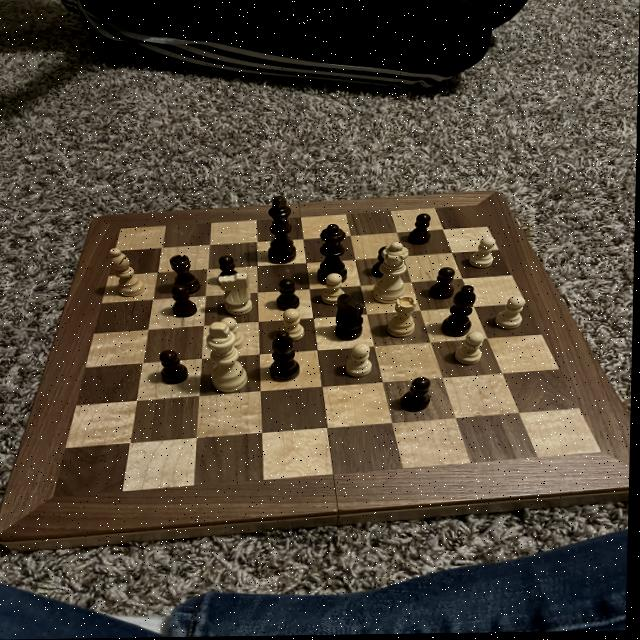bishop: (439, 284, 482, 339), (269, 328, 304, 386)
black-bishop: (263, 195, 303, 266)
black-king: (332, 294, 370, 344)
black-knight: (396, 377, 438, 417), (157, 349, 192, 389), (427, 267, 461, 304), (274, 278, 305, 313), (404, 214, 435, 248), (170, 285, 200, 320), (216, 254, 245, 285), (372, 245, 394, 280)
black-pawn: (312, 221, 355, 288)
black-queen: (170, 253, 205, 296)
black-rook: (107, 247, 147, 298)
white-bishop: (205, 320, 253, 396)
white-king: (216, 270, 257, 316)
white-knight: (491, 297, 531, 333), (451, 332, 490, 367), (216, 316, 250, 351), (343, 343, 377, 378), (278, 308, 309, 343), (469, 236, 498, 270), (321, 273, 346, 306)
white-pawn: (370, 242, 412, 306)
white-queen: (387, 294, 419, 342)
